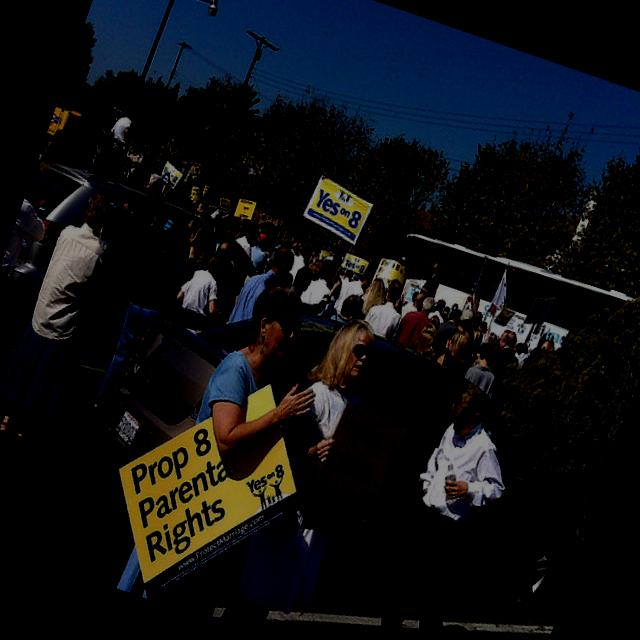Vehicle: (71, 254, 620, 638), (0, 149, 277, 407), (374, 218, 635, 398)
